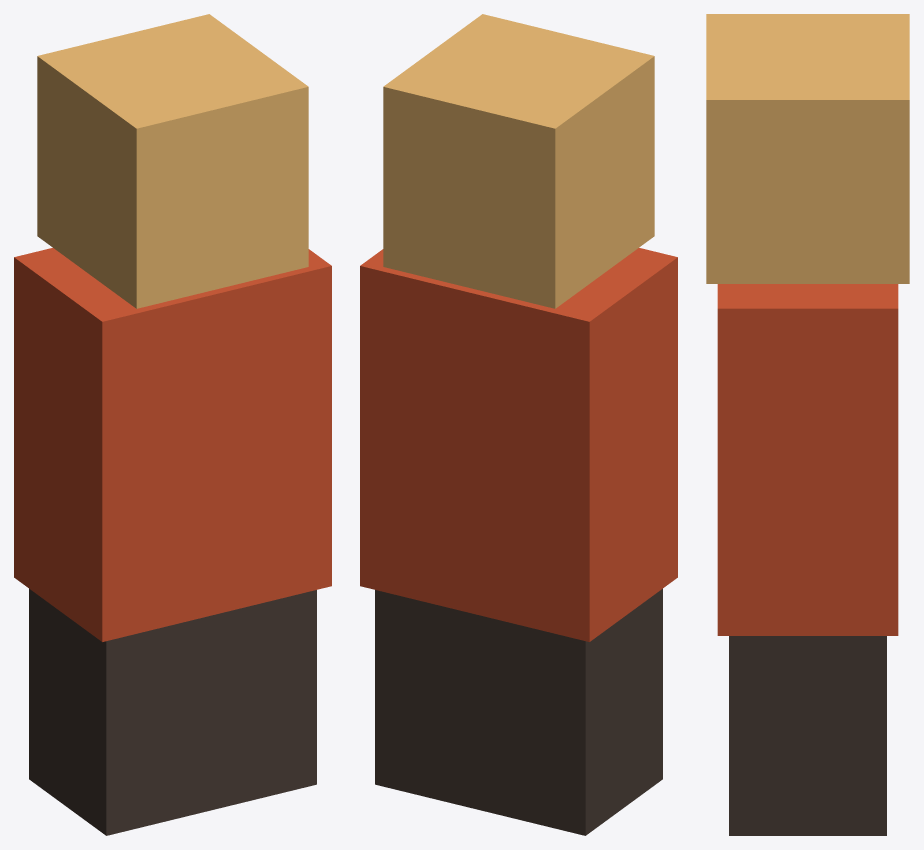
The model's file is pruefling.glb.
3 renders of one model, left to right at view 1: azimuth 30°, elevation 25°; view 2: azimuth 150°, elevation 25°; view 3: azimuth 270°, elevation 25°, orthographic. The views are drawn at different scales.
Parts seen in each view (by area): view 1: Rumpf, Kopf, Fuesse; view 2: Rumpf, Kopf, Fuesse; view 3: Rumpf, Kopf, Fuesse.
Part boxes in pixels (box(x1,y1,x2,y2)): Rumpf: box(14, 248, 331, 641); Kopf: box(37, 14, 308, 308); Fuesse: box(29, 588, 316, 835); Rumpf: box(360, 248, 677, 641); Kopf: box(383, 14, 654, 308); Fuesse: box(375, 588, 662, 835); Rumpf: box(717, 284, 898, 635); Kopf: box(706, 14, 909, 283); Fuesse: box(729, 636, 886, 835).
Bounding box in the file's own units: 0.6 × 1.77 × 0.45.
